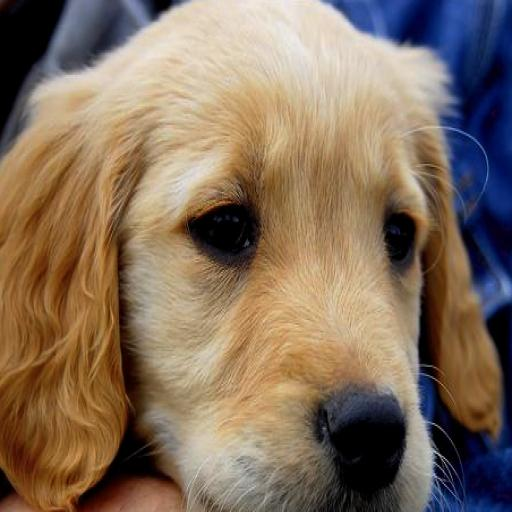dog_face: (0, 6, 497, 512)
